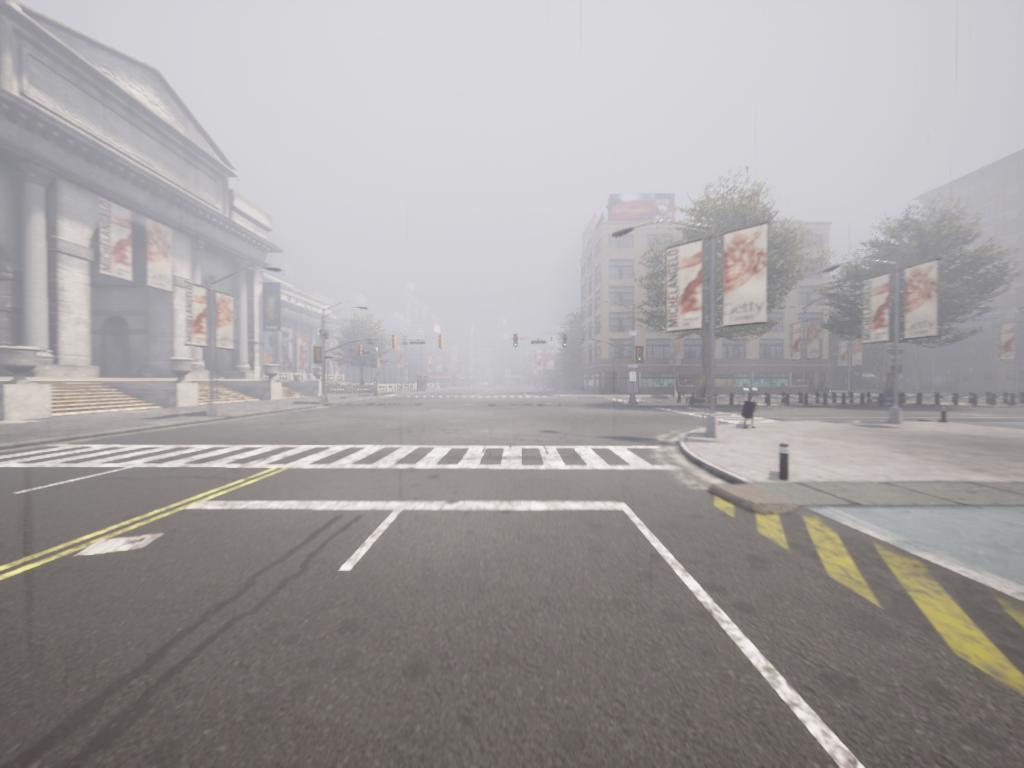traffic_light: (315, 346, 323, 367), (636, 348, 644, 365), (562, 334, 569, 350), (513, 333, 519, 350), (439, 335, 443, 352), (393, 335, 397, 352), (359, 345, 363, 359)
